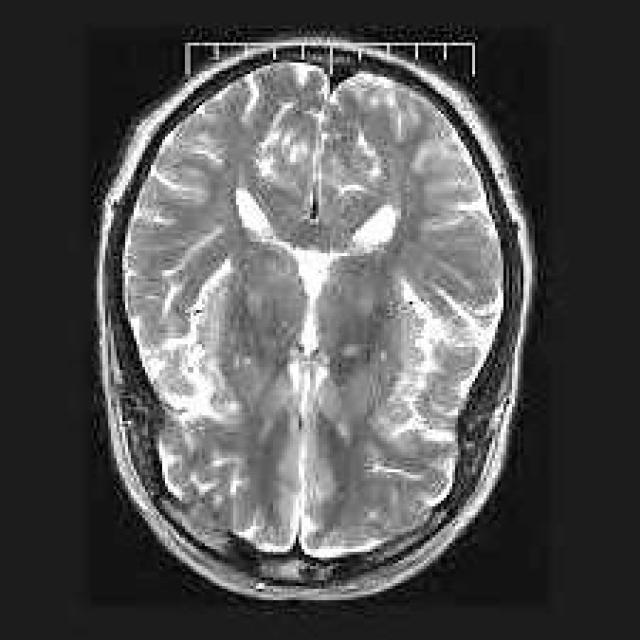notumor: (97, 46, 538, 606)
